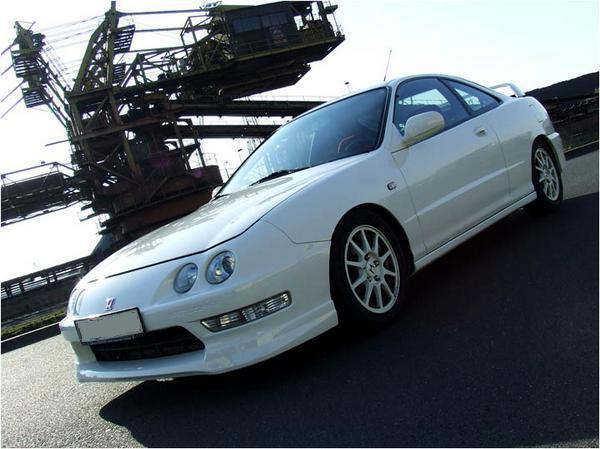Car: (43, 54, 595, 402)
